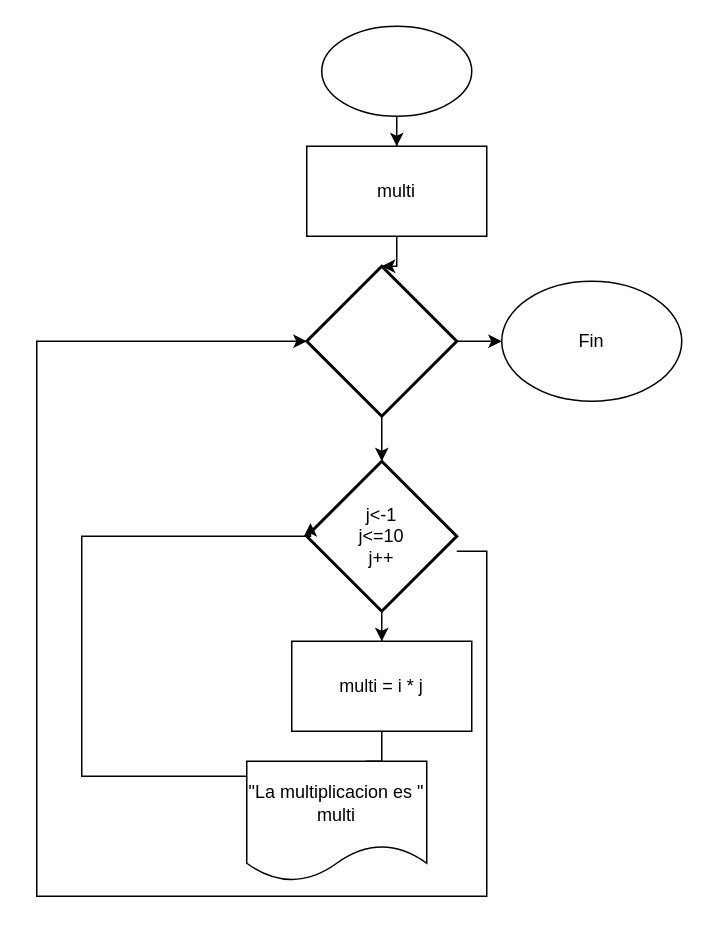
Image size: 708x935. Some labels were removed from this diagram. Here are the shapes that lost their labels. From the top down, the centre of each, then its label:
At (396,70): "Inicio".
At (381,340): "i<-1 i <=10 i++".
